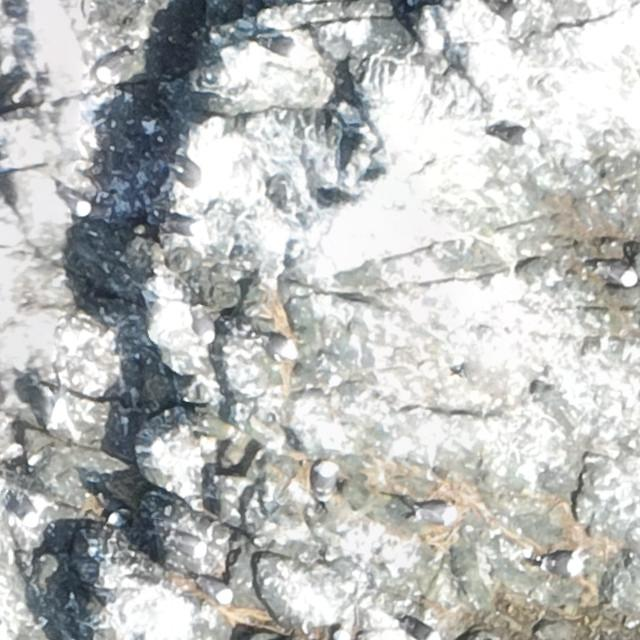umineko: (170, 156, 215, 198), (96, 51, 141, 82), (260, 33, 306, 59), (62, 188, 95, 218), (172, 535, 210, 560), (258, 334, 295, 358), (201, 578, 233, 602), (416, 504, 455, 522), (312, 463, 331, 498), (403, 620, 436, 640), (601, 264, 634, 284), (543, 554, 577, 573), (165, 218, 198, 236), (492, 126, 526, 142)
